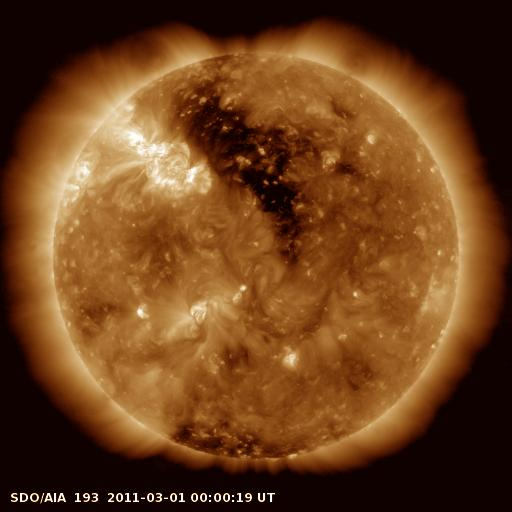coronal_hole: (171, 72, 308, 265), (168, 418, 286, 470)
